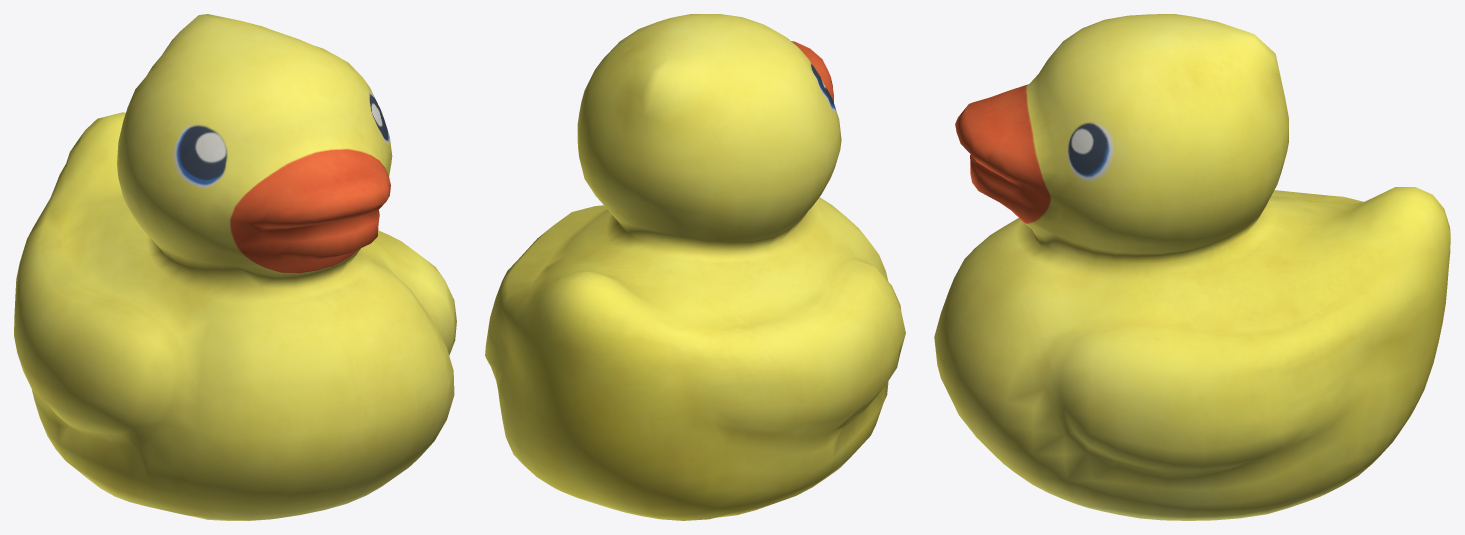
Rendered from Yellow_Ducky.fbx.
3 renders of one model, left to right at view 1: azimuth 30°, elevation 25°; view 2: azimuth 150°, elevation 25°; view 3: azimuth 270°, elevation 25°, orthographic. The views are drawn at different scales.
Visible parts, largest first — view 1: Ducky_mainguy; view 2: Ducky_mainguy; view 3: Ducky_mainguy.
Part boxes in pixels (<box>): Ducky_mainguy: <box>14,14,456,520</box>; Ducky_mainguy: <box>485,14,905,520</box>; Ducky_mainguy: <box>934,14,1450,520</box>.
Bounding box in the file's own units: 62.11 × 68.09 × 73.49.
Materials: 1 (1 with a texture image).
